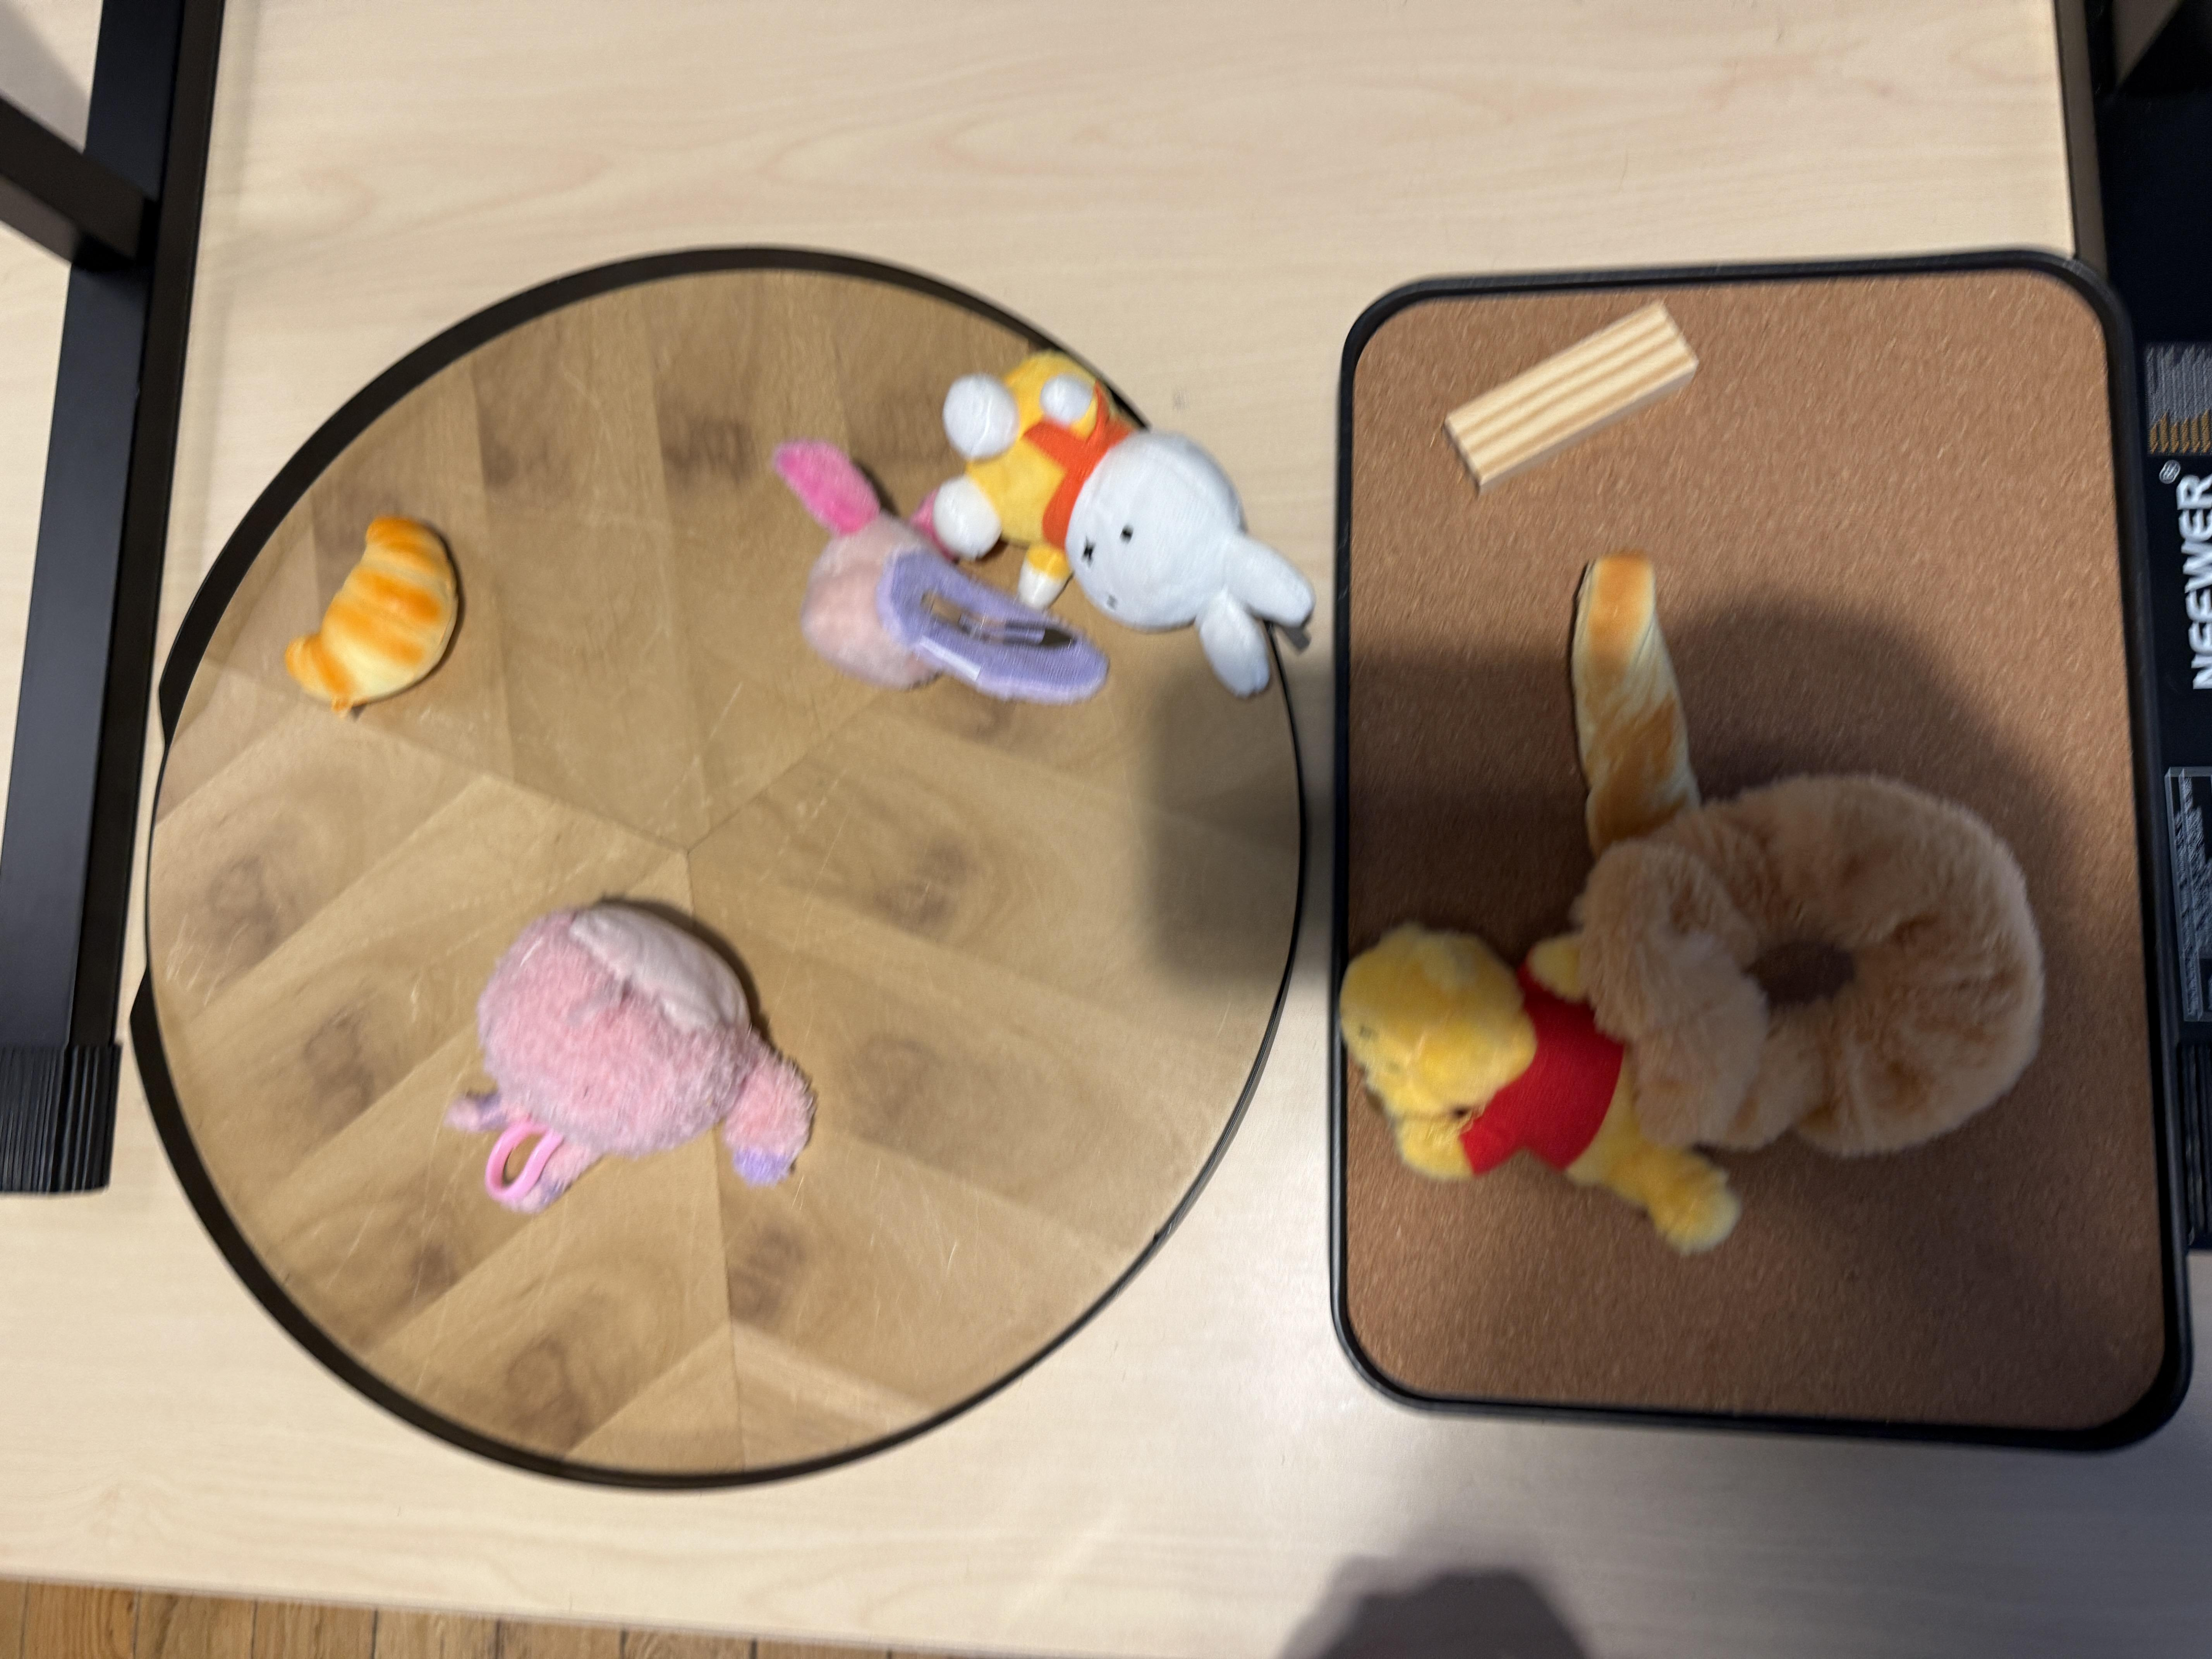block: (1338, 772, 2052, 1263), (934, 350, 1318, 699), (446, 903, 810, 1211), (775, 443, 1108, 701), (1442, 295, 1698, 488)
bread: (1566, 542, 1702, 847), (275, 516, 465, 704)
